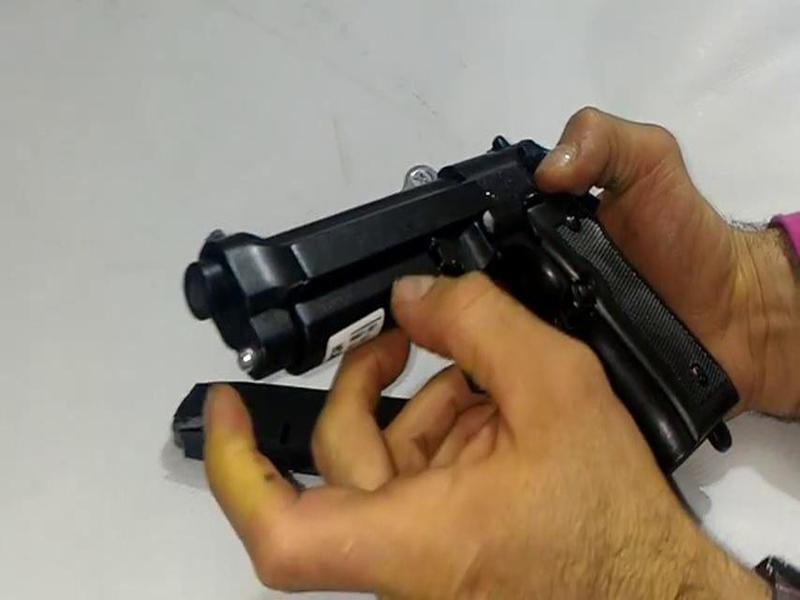Pistola: (159, 118, 741, 483)
